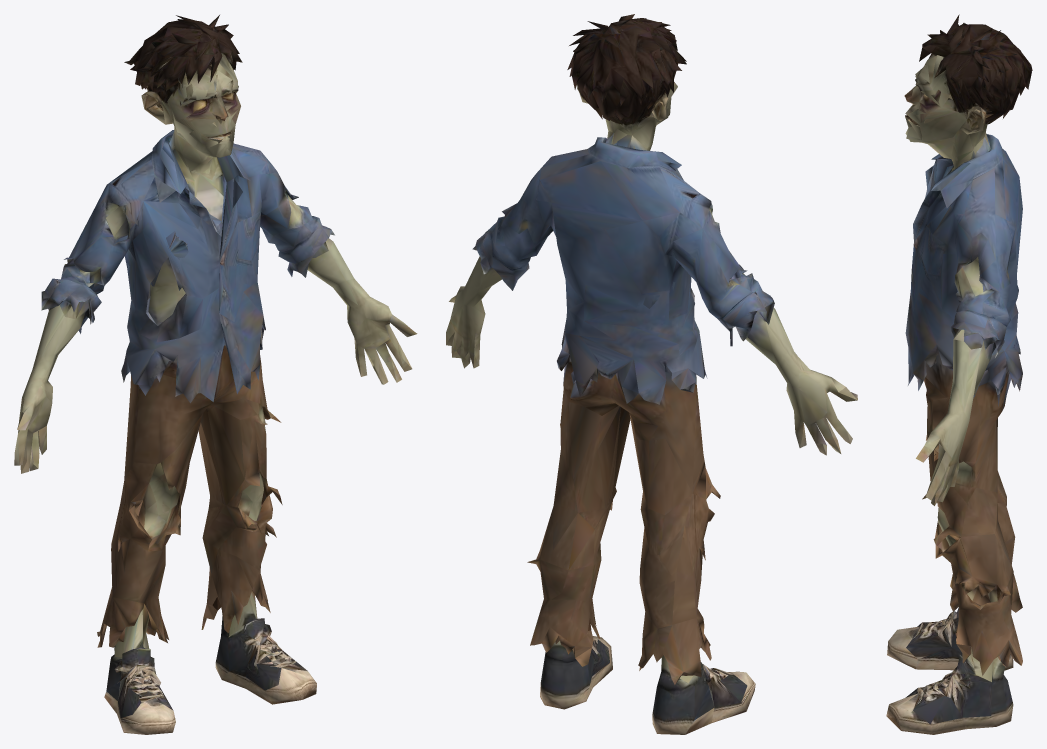
The model's file is zombie.glb.
3 views of the same model, side by side, from view 1: azimuth 30°, elevation 25°; view 2: azimuth 150°, elevation 25°; view 3: azimuth 270°, elevation 25° (orthographic). The views are drawn at different scales.
Visible parts, largest first — view 1: stylized-zombie; view 2: stylized-zombie; view 3: stylized-zombie.
Boxes of the visible parts, x1,y1,x2,y2 form: stylized-zombie: (14, 15, 417, 734); stylized-zombie: (446, 14, 857, 734); stylized-zombie: (886, 14, 1032, 734).
Bounding box in the file's own units: 3.72 × 6 × 1.19.
1 material, 1 textured.
